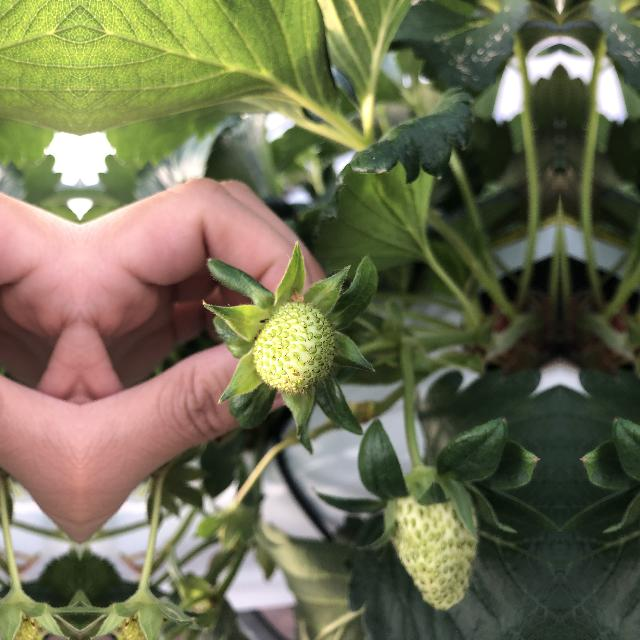Health_25: (382, 483, 481, 613), (238, 292, 346, 404)
